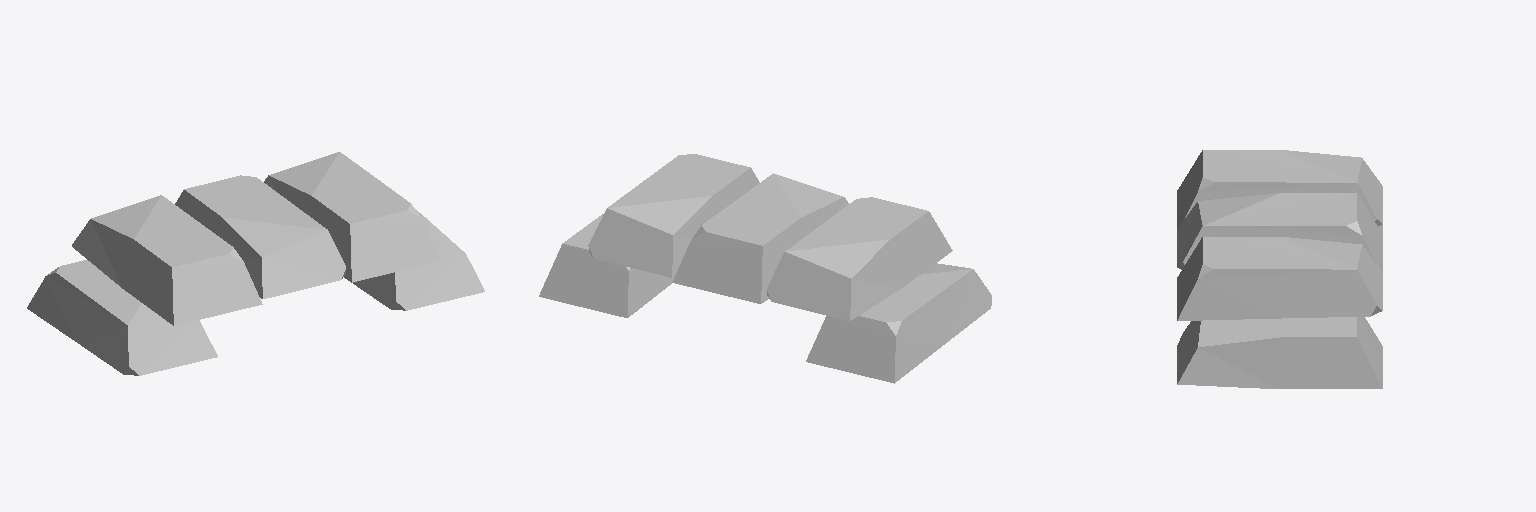
The model's file is Gold-16.obj.
3 renders of one model, left to right at view 1: azimuth 30°, elevation 25°; view 2: azimuth 150°, elevation 25°; view 3: azimuth 270°, elevation 25°, orthographic.
Visible parts, largest first — view 1: Gold_16; view 2: Gold_16; view 3: Gold_16.
Part boxes in pixels (x1,y1,x2,y2): Gold_16: (27,152,484,375); Gold_16: (539,154,991,383); Gold_16: (1177,150,1382,388).
Size of the model in its own units: 0.3 by 0.075 by 0.15.